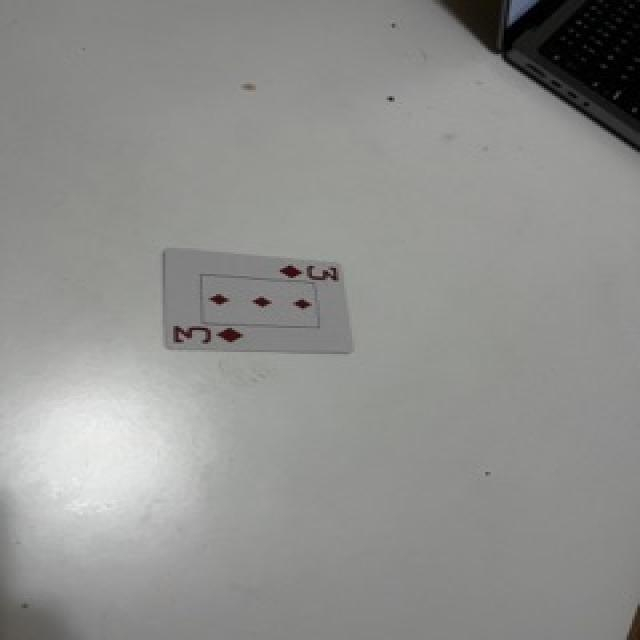3 of diamonds: (163, 249, 352, 352)
